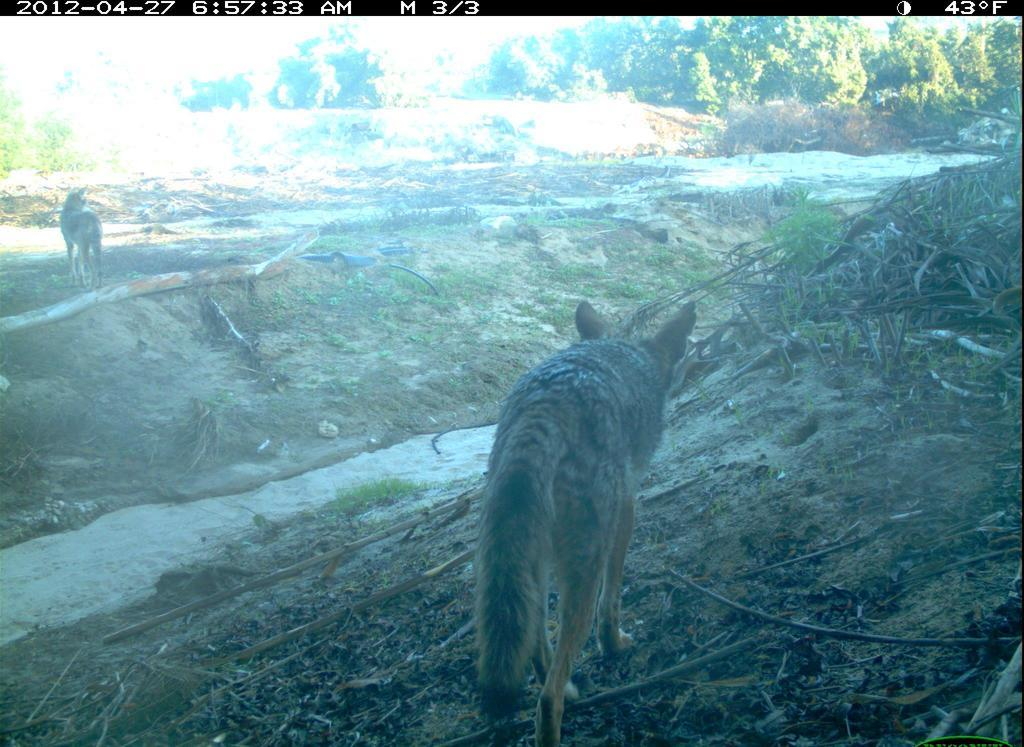coyote: (463, 281, 705, 738), (43, 180, 135, 318)
